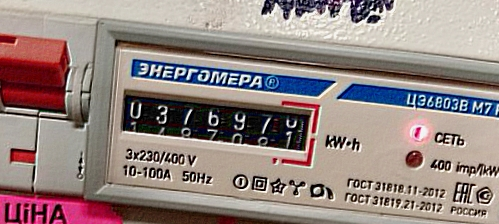0: (127, 97, 143, 120)
1: (282, 129, 294, 150)
3: (154, 103, 170, 126)
6: (205, 104, 222, 128)
7: (179, 103, 196, 128), (257, 112, 274, 136)
9: (231, 108, 247, 132)
screen: (110, 76, 325, 170)
